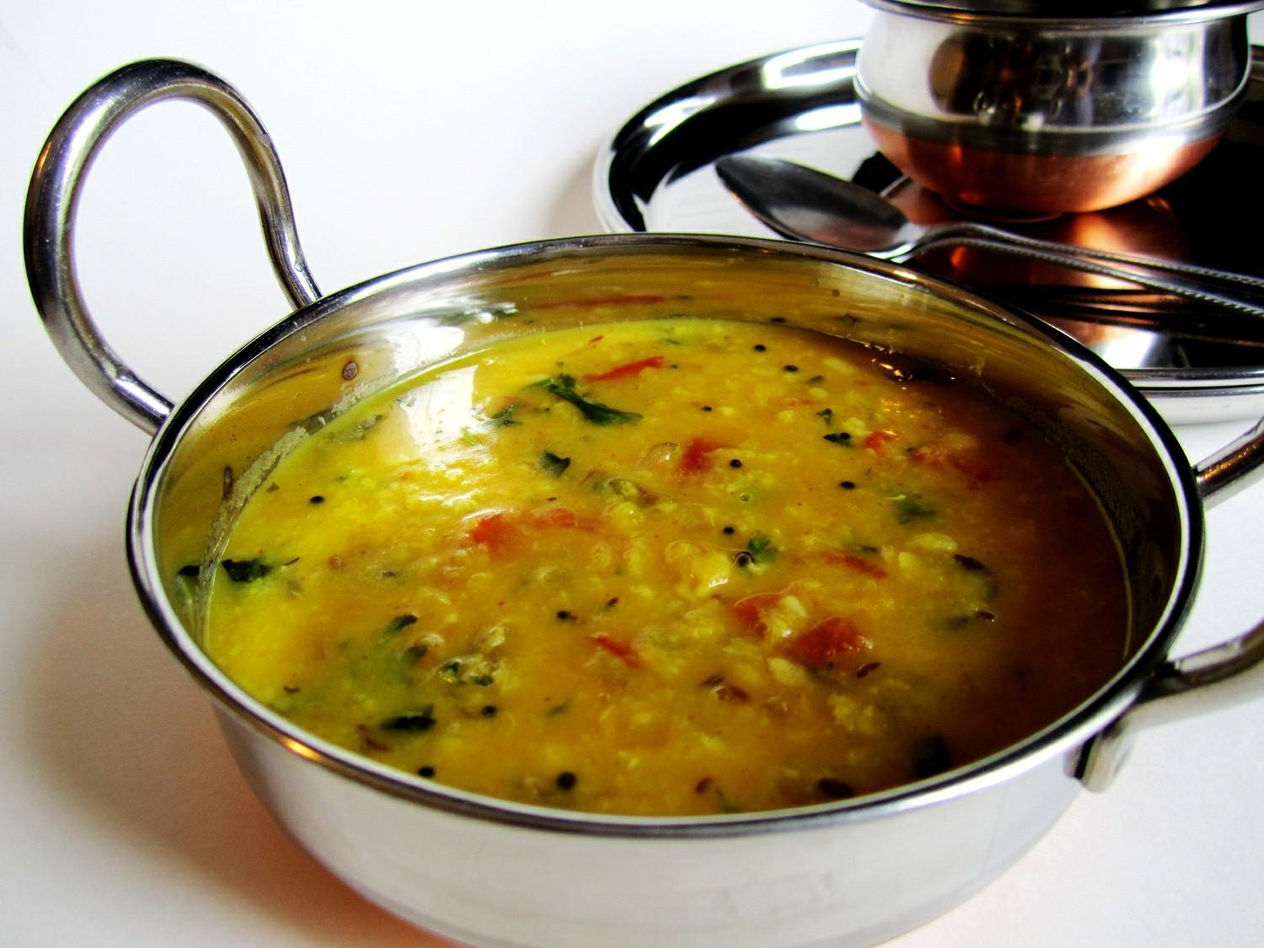Dal: (207, 312, 1124, 820)
